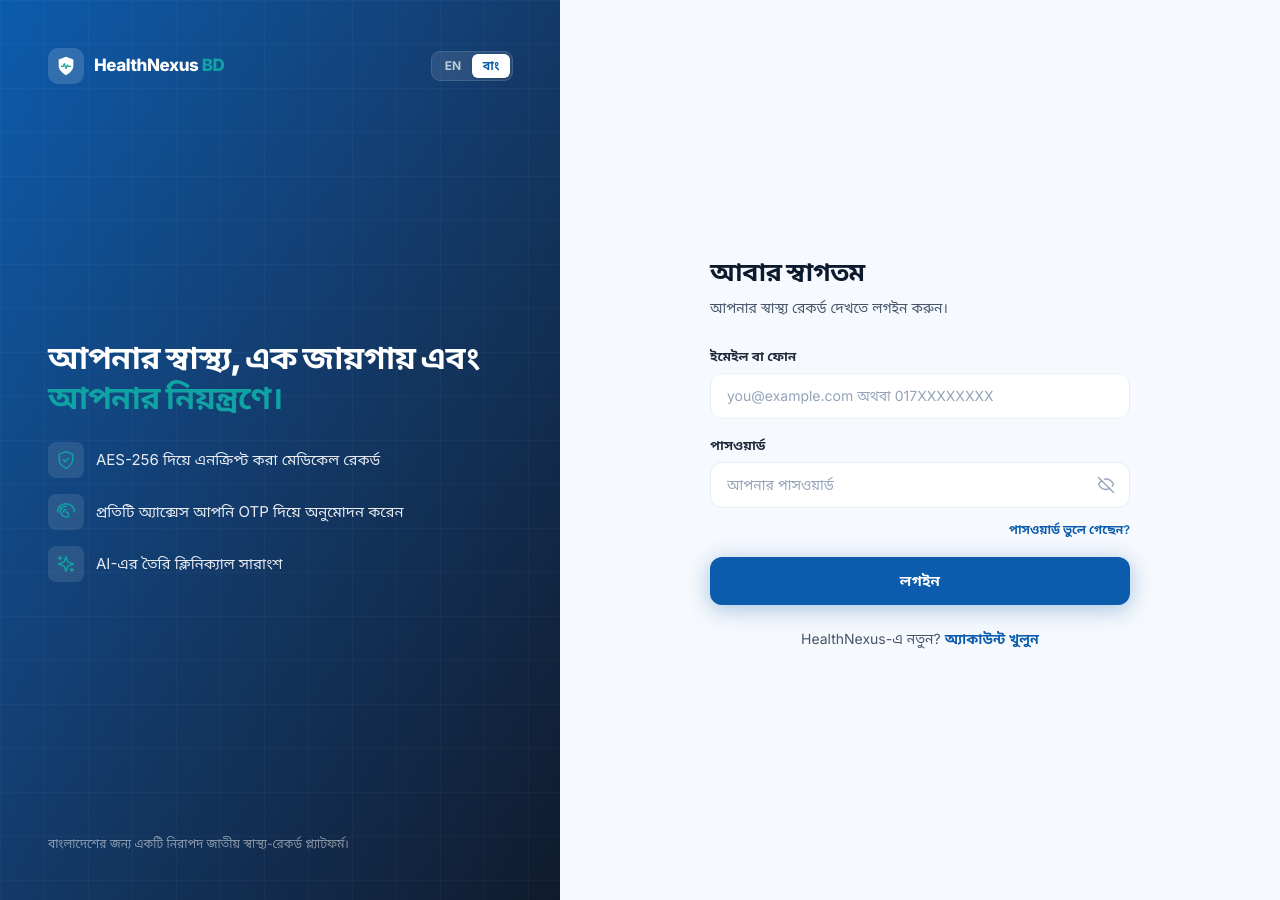
Scenario: auth & landing pages in bn › login shows validation errors in the active language
Click the button "লগইন" at (920, 581), box [710,557,1130,605]
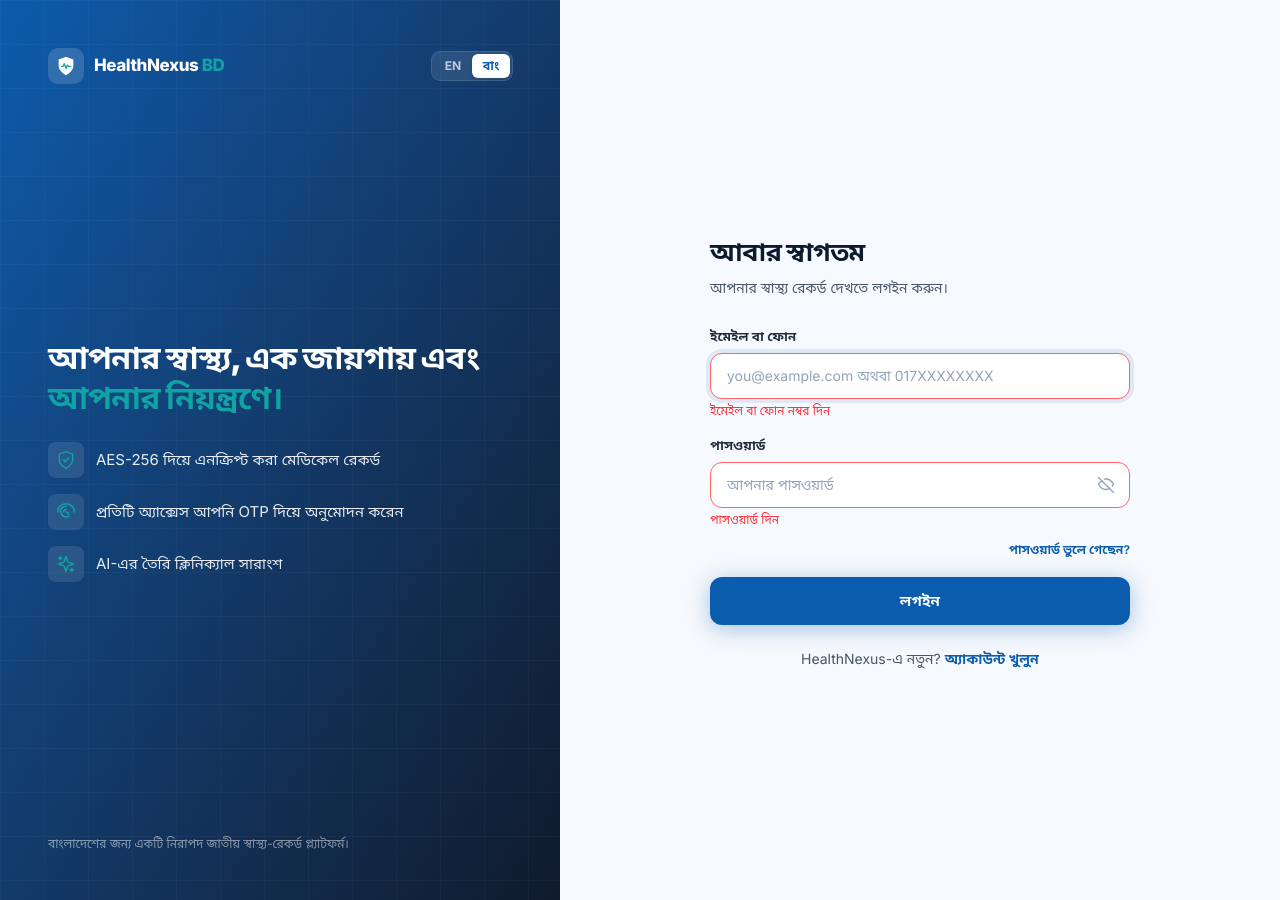
Check: the text "ইমেইল বা ফোন নম্বর দিন" is shown, box [710,403,830,418]
Check: the text "পাসওয়ার্ড দিন" is shown, box [710,512,779,527]
